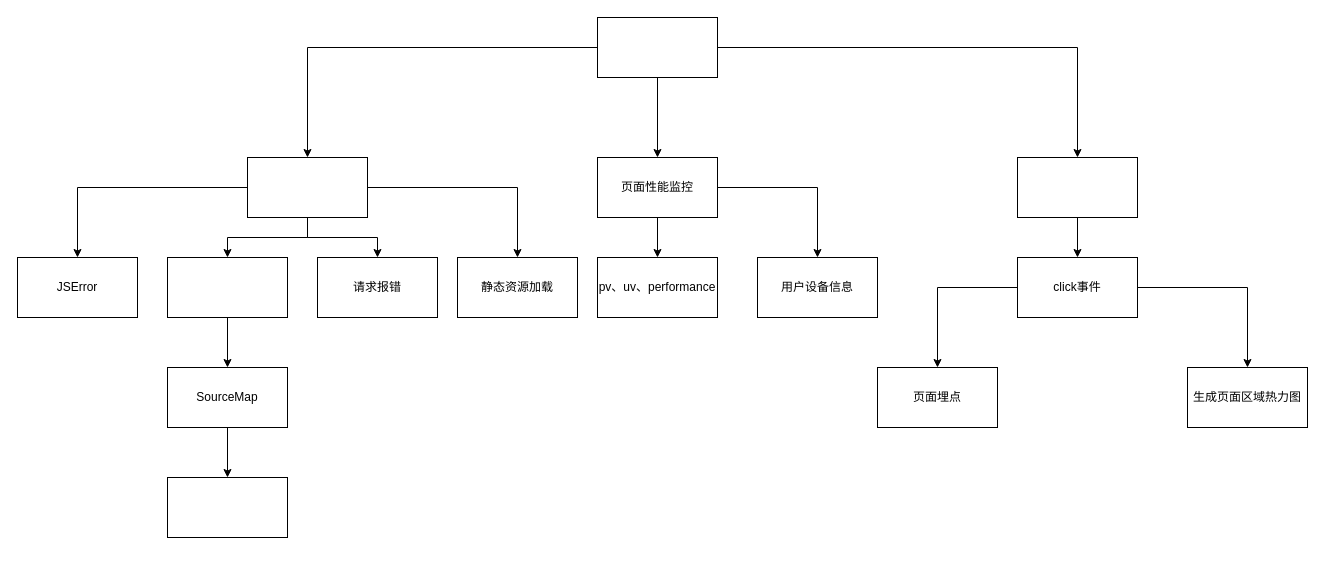
Some shapes in this 1325 by 563 pixel diagram are drawn without their labels. Each missing label, with the centre of its shape:
FEMonitor: (657,47)
Vue Error: (227,287)
报错反查: (227,507)
用户行为监控: (1077,187)
错误上报: (307,187)
